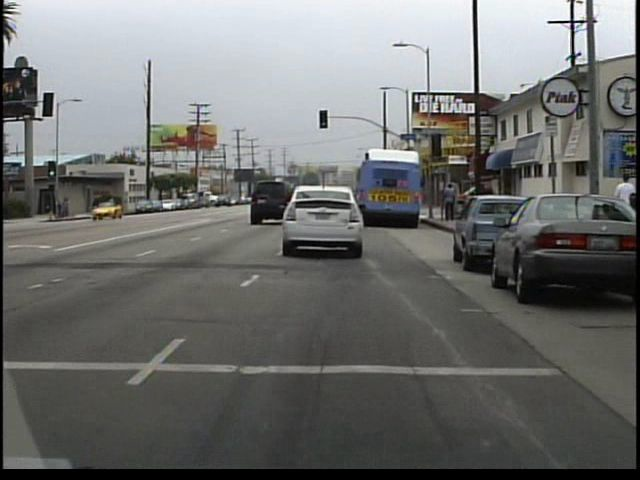person: (608, 168, 637, 241), (439, 181, 458, 222), (108, 193, 121, 217)
